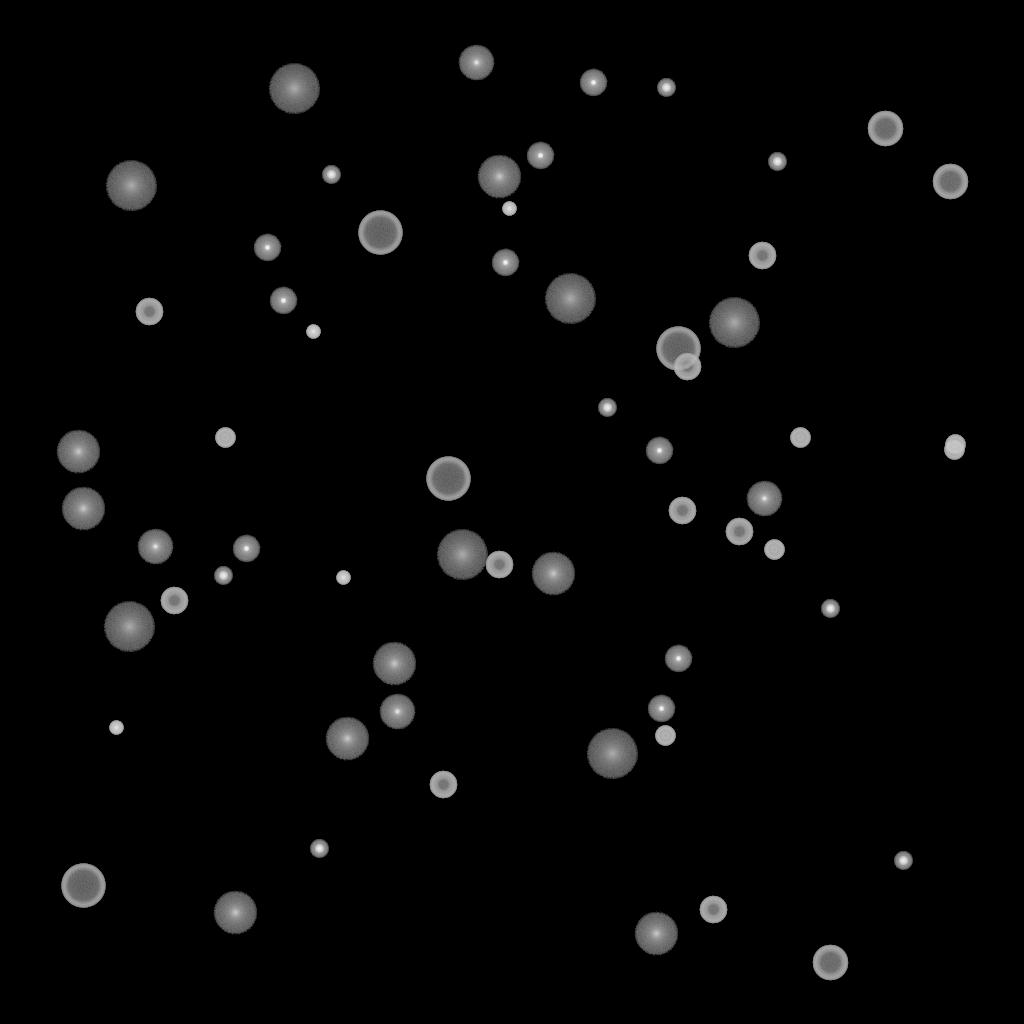depth:-10: (647, 695, 675, 723), (491, 249, 519, 277), (579, 69, 607, 97), (645, 437, 673, 465), (269, 287, 297, 315), (253, 234, 281, 262), (526, 142, 554, 170), (664, 645, 692, 673), (232, 535, 260, 563)
depth:-20: (310, 840, 328, 858), (214, 567, 232, 585), (598, 399, 616, 417), (768, 153, 786, 171), (322, 166, 340, 184), (894, 852, 912, 870), (821, 600, 839, 618), (657, 79, 675, 97)
depth:-30: (336, 571, 350, 585), (306, 325, 320, 339), (502, 202, 516, 216), (109, 721, 123, 735)
depth:-40: (790, 428, 810, 448), (655, 726, 675, 746), (215, 428, 235, 448), (944, 440, 964, 460), (945, 435, 965, 455), (764, 540, 784, 560)
depth:-50: (725, 518, 753, 546), (135, 298, 163, 326), (429, 771, 457, 799), (668, 497, 696, 525), (160, 587, 188, 615), (748, 242, 776, 270), (485, 551, 513, 579), (699, 896, 727, 924), (673, 353, 701, 381)
depth:-60: (812, 945, 848, 981), (932, 164, 968, 200), (867, 111, 903, 147)
depth:-70: (61, 864, 105, 908), (656, 327, 700, 371), (358, 211, 402, 255), (426, 457, 470, 501)
depth:0: (137, 529, 173, 565), (379, 694, 415, 730), (746, 481, 782, 517), (458, 45, 494, 81)
depth:10: (531, 552, 575, 596), (325, 717, 369, 761), (477, 155, 521, 199), (372, 642, 416, 686), (634, 912, 678, 956), (61, 487, 105, 531), (56, 430, 100, 474), (213, 891, 257, 935)
depth:20: (105, 161, 157, 211), (103, 602, 155, 652), (544, 274, 596, 324), (268, 64, 320, 114), (708, 298, 760, 348), (586, 729, 638, 779), (436, 530, 488, 580)
